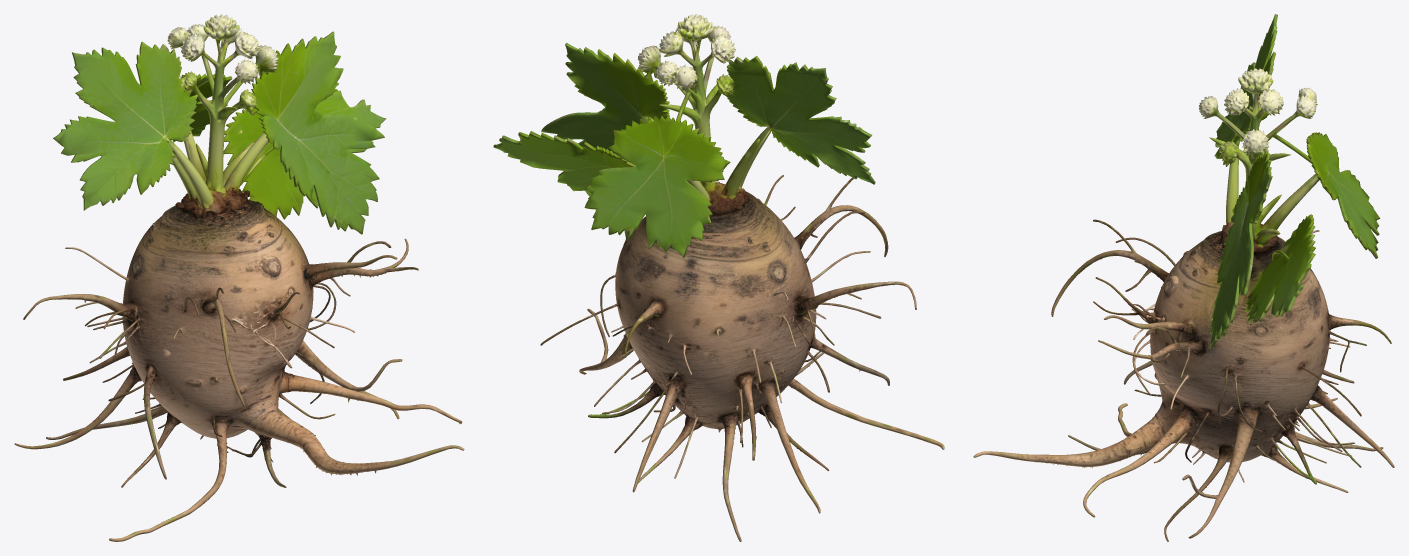
Rendered from qianghuo.glb.
3 renders of one model, left to right at view 1: azimuth 30°, elevation 25°; view 2: azimuth 150°, elevation 25°; view 3: azimuth 270°, elevation 25°, orthographic. The views are drawn at different scales.
Visible parts, largest first — view 1: node_0; view 2: node_0; view 3: node_0.
Part boxes in pixels (<box>): node_0: <box>14,14,464,541</box>; node_0: <box>493,14,944,541</box>; node_0: <box>973,14,1394,541</box>.
Size of the model in its own units: 0.7981 by 0.8671 by 0.7696.
Materials: 1 (1 with a texture image).
